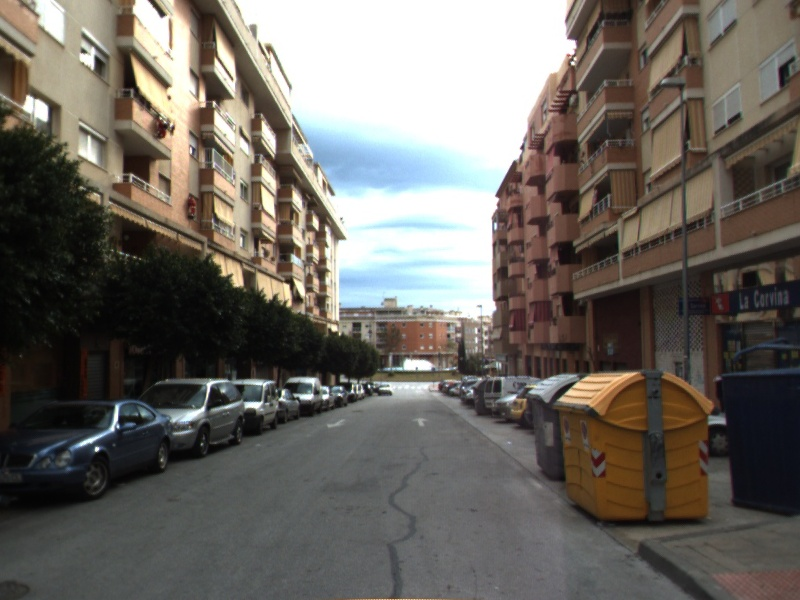STRAIGHT: (410, 415, 430, 428)
